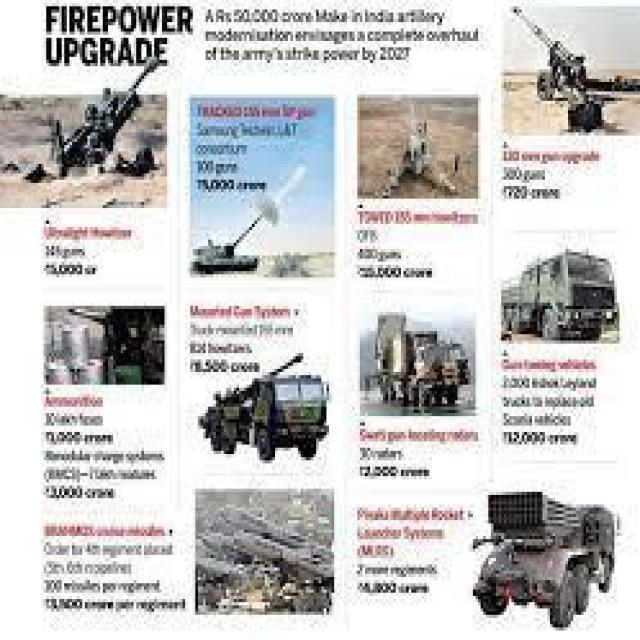Tanks: (203, 348, 326, 472), (32, 72, 161, 183), (364, 309, 469, 413), (192, 224, 260, 280)
